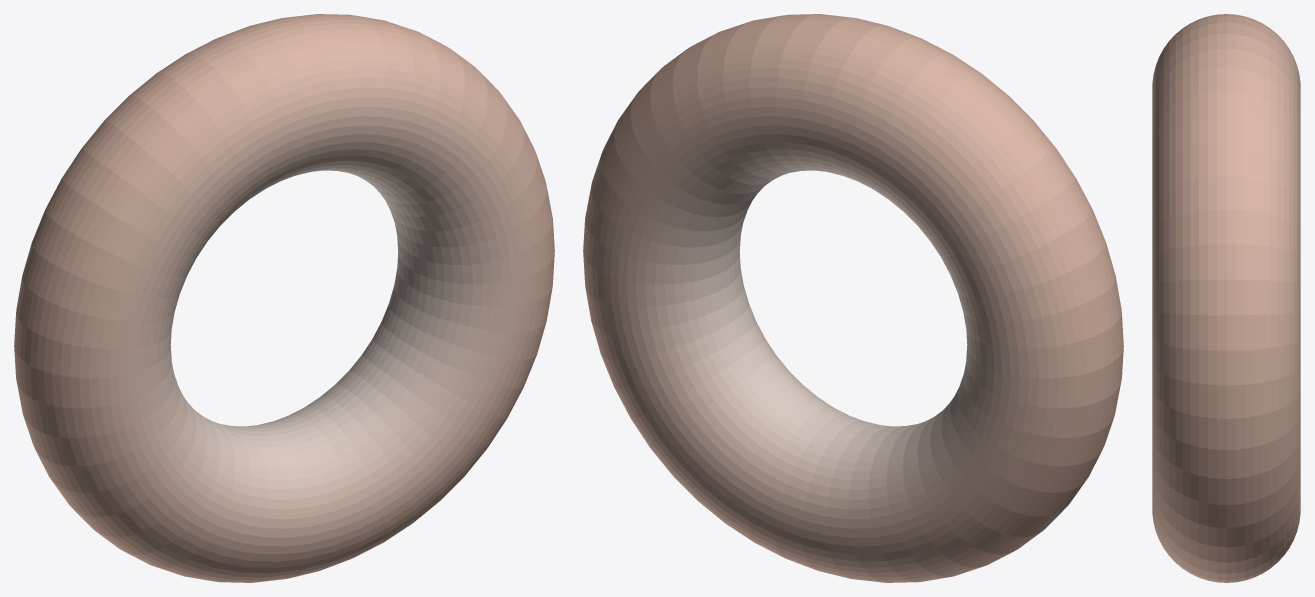
3 views of the same model, side by side, from view 1: azimuth 30°, elevation 25°; view 2: azimuth 150°, elevation 25°; view 3: azimuth 270°, elevation 25° (orthographic). The views are drawn at different scales.
Visible parts, largest first — view 1: world; view 2: world; view 3: world.
Part boxes in pixels (x1,y1,x2,y2): world: (14,14,554,582); world: (583,14,1123,582); world: (1152,14,1300,582).
Bounding box in the file's own units: 27.07 × 27.01 × 7.05.
